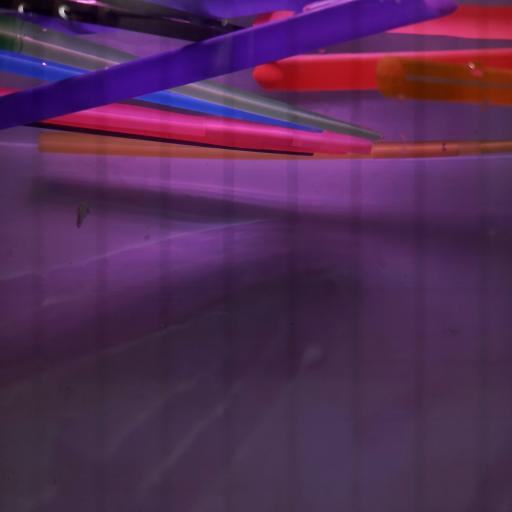plastic_straw: (1, 2, 458, 130), (0, 24, 383, 144), (0, 48, 321, 133), (0, 85, 372, 156), (38, 129, 512, 160), (250, 47, 512, 95), (0, 4, 246, 43), (373, 53, 512, 109)
